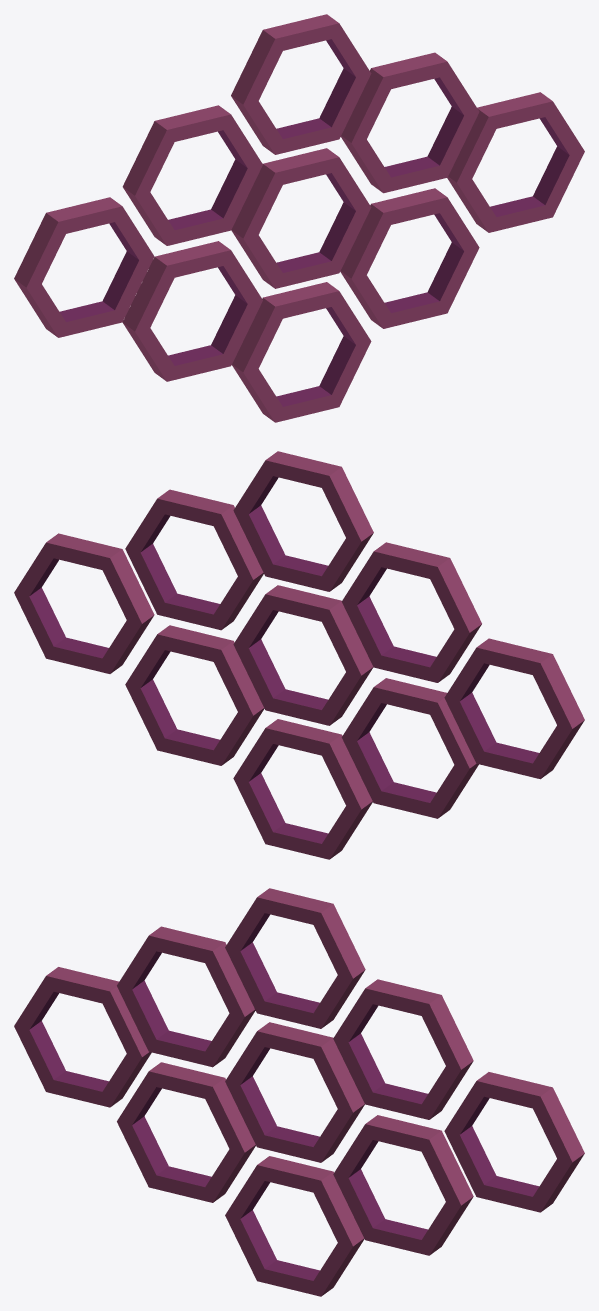
File: flower shelf.fbx
3 views of the same model, one above another, from view 1: azimuth 30°, elevation 25°; view 2: azimuth 150°, elevation 25°; view 3: azimuth 330°, elevation 25° (orthographic).
Visible parts, largest first — view 1: flower shelf; view 2: flower shelf; view 3: flower shelf.
Boxes of the visible parts, <box> form: flower shelf: <box>14,14,584,422</box>; flower shelf: <box>14,451,584,859</box>; flower shelf: <box>14,888,584,1296</box>.
Size of the model in its own units: 229 by 150 by 10.89.
1 material, 1 textured.
